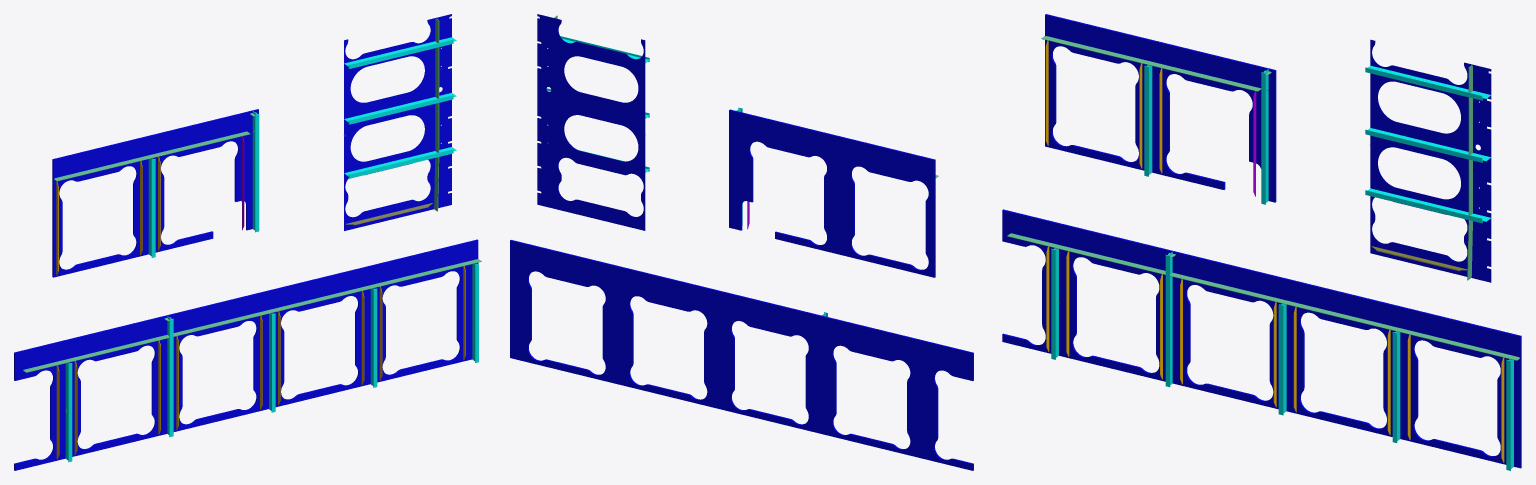
3 renders of one model, left to right at view 1: azimuth 30°, elevation 25°; view 2: azimuth 150°, elevation 25°; view 3: azimuth 330°, elevation 25°, orthographic. The views are drawn at different scales.
Parts seen in each view (by area): view 1: 2089126988432, 2089126988416, 2089126985136, 2089126984320, 2089126988624, 2089126985216, 2089126984336, 2089126988368, 2089126985088, 2089126984272, 2089126984304, 2089126984240 (+4 smaller); view 2: 2089126988432, 2089126988416, 2089126985136, 2089126984320; view 3: 2089126988432, 2089126985136, 2089126988416, 2089126984320, 2089126988624, 2089126985216, 2089126988368, 2089126984336, 2089126988336, 2089126988304, 2089126985088, 2089126984240 (+5 smaller).
Boxes of the visible parts, bbox=[...] form: 2089126988432: bbox=[218, 239, 478, 421]; 2089126988416: bbox=[14, 303, 218, 470]; 2089126985136: bbox=[52, 109, 258, 277]; 2089126984320: bbox=[344, 14, 451, 230]; 2089126988624: bbox=[23, 259, 481, 372]; 2089126985216: bbox=[54, 131, 250, 181]; 2089126984336: bbox=[435, 18, 439, 157]; 2089126988368: bbox=[169, 318, 173, 437]; 2089126985088: bbox=[255, 114, 259, 232]; 2089126984272: bbox=[348, 39, 453, 68]; 2089126984304: bbox=[348, 149, 453, 178]; 2089126984240: bbox=[348, 95, 453, 124]; 2089126988432: bbox=[510, 240, 770, 421]; 2089126988416: bbox=[770, 303, 973, 470]; 2089126985136: bbox=[729, 109, 935, 277]; 2089126984320: bbox=[537, 14, 645, 230]; 2089126988432: bbox=[1229, 265, 1521, 468]; 2089126985136: bbox=[1045, 14, 1276, 202]; 2089126988416: bbox=[1002, 209, 1230, 397]; 2089126984320: bbox=[1370, 39, 1491, 282]; 2089126988624: bbox=[1007, 233, 1519, 360]; 2089126985216: bbox=[1041, 36, 1261, 91]; 2089126988368: bbox=[1165, 255, 1170, 387]; 2089126984336: bbox=[1468, 65, 1472, 220]; 2089126988336: bbox=[1278, 304, 1283, 415]; 2089126988304: bbox=[1392, 332, 1397, 442]; 2089126985088: bbox=[1261, 72, 1265, 204]; 2089126984240: bbox=[1365, 129, 1482, 162].
Size of the model in its own units: 11670 by 8427 by 250.
